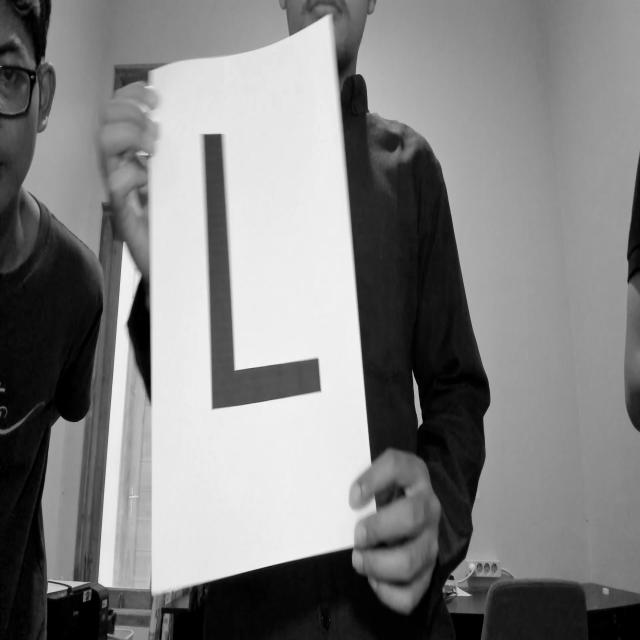l: (173, 104, 330, 422)
